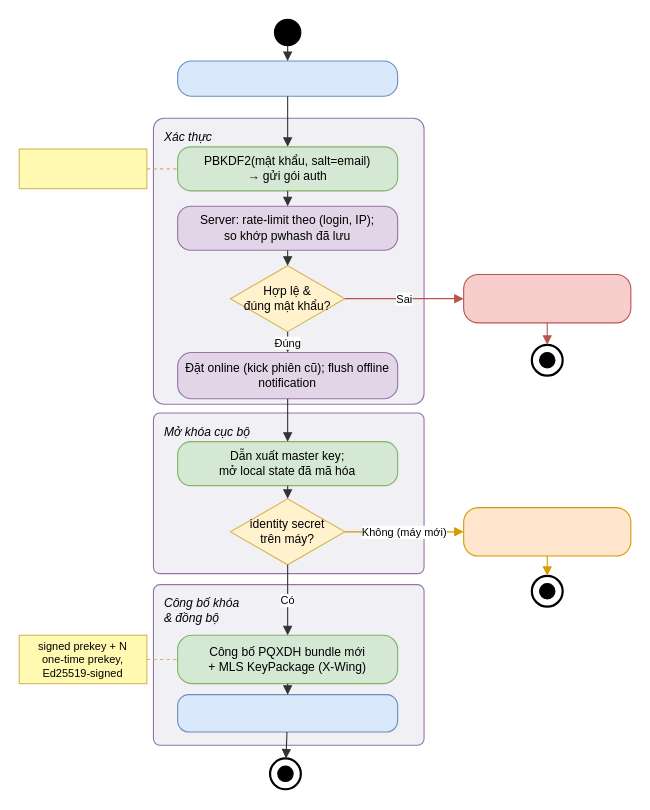
Image size: 650x810. Some labels were removed from this diagram. Each missing label, with the centre of its shape:
"Client PBKDF2 100k; server băm lại 600k" goes at (82,168).
"Khóa tạm theo rate-limit, báo lỗi đăng nhập" goes at (547,298).
"Nhập email và mật khẩu" goes at (287,78).
"Tải inbox, danh sách bạn và hội thoại" goes at (287,713).
"Yêu cầu restore backup hoặc rotate có chủ đích" goes at (547,531).
